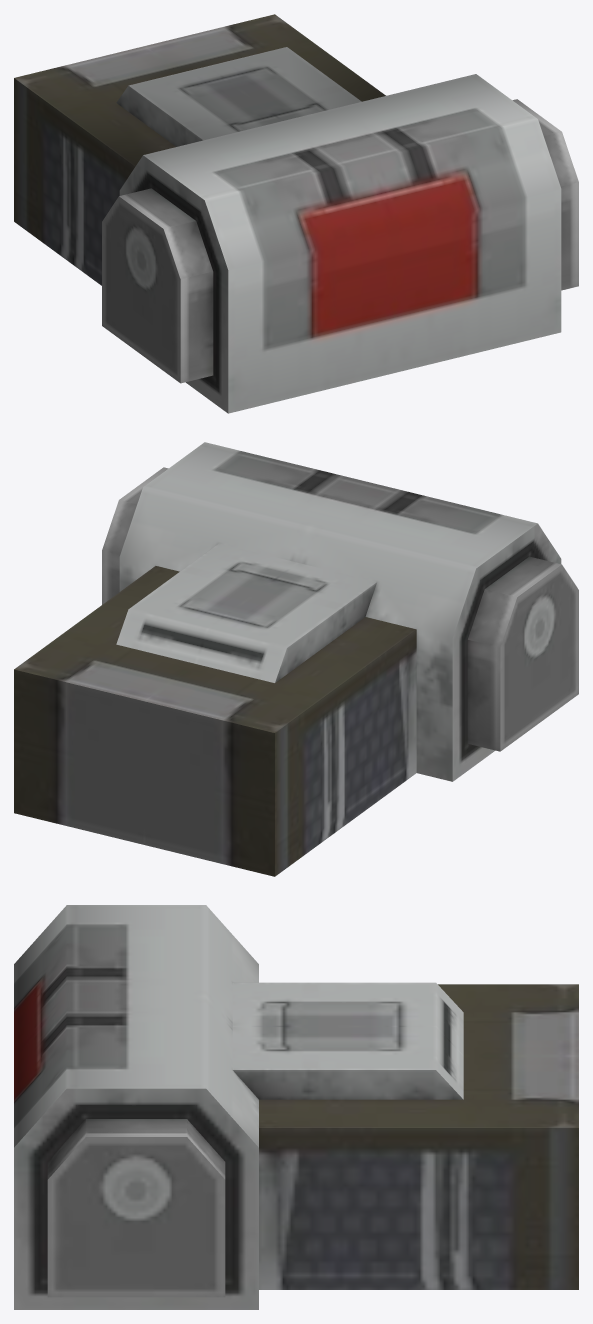
Rendered from Part - Addon 06-hHr19nLQ.glb.
3 renders of one model, top to bottom at view 1: azimuth 30°, elevation 25°; view 2: azimuth 150°, elevation 25°; view 3: azimuth 270°, elevation 25°, orthographic. The views are drawn at different scales.
Parts seen in each view (by area): view 1: Addon_06; view 2: Addon_06; view 3: Addon_06.
Boxes of the visible parts, x1=… form: Addon_06: x1=14, y1=14, x2=578, y2=413; Addon_06: x1=14, y1=442, x2=578, y2=876; Addon_06: x1=14, y1=905, x2=578, y2=1309.
Bounding box in the file's own units: 1.22 × 0.5753 × 1.33.
Materials: 1 (1 with a texture image).
